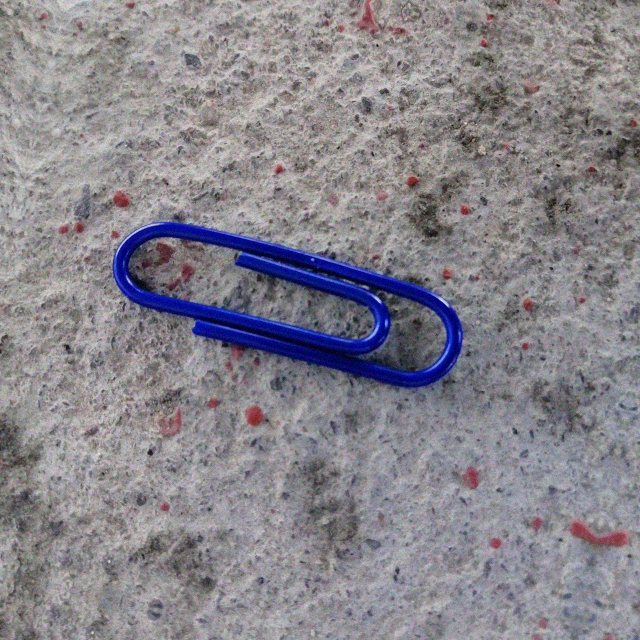pin: (108, 212, 467, 390)
